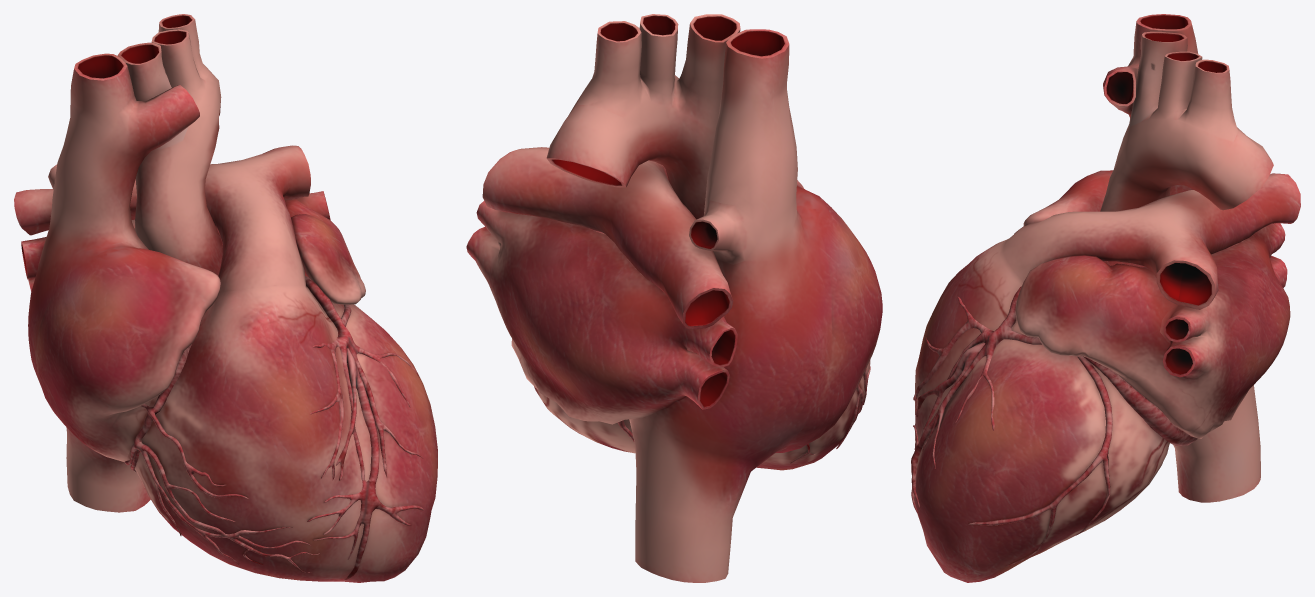
File: exterior-1.glb
The picture shows the model from 3 angles, left to right: view 1: azimuth 30°, elevation 25°; view 2: azimuth 150°, elevation 25°; view 3: azimuth 270°, elevation 25°; orthographic projection. The views are drawn at different scales.
Parts seen in each view (by area): view 1: heart; view 2: heart; view 3: heart.
Boxes of the visible parts, box(x1,y1,x2,y2) form: heart: box(14, 14, 437, 582); heart: box(466, 14, 882, 582); heart: box(911, 14, 1300, 582).
Size of the model in its own units: 0.0809 by 0.1197 by 0.088.
Materials: 1 (1 with a texture image).
